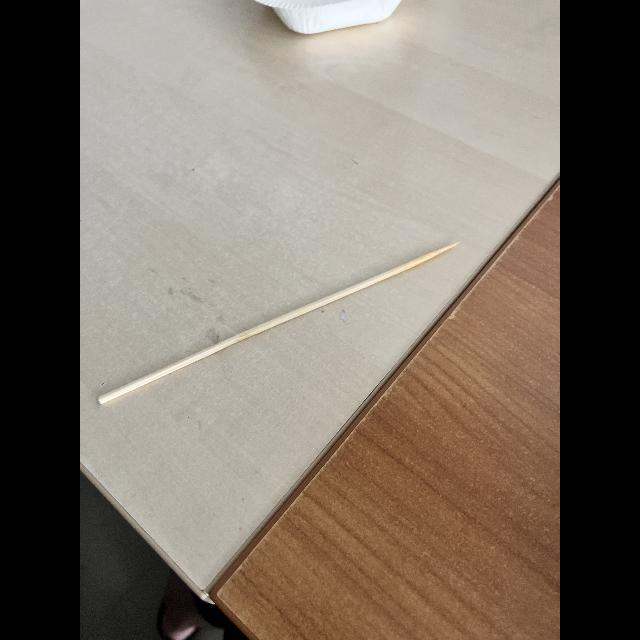stick: (90, 231, 464, 413)
